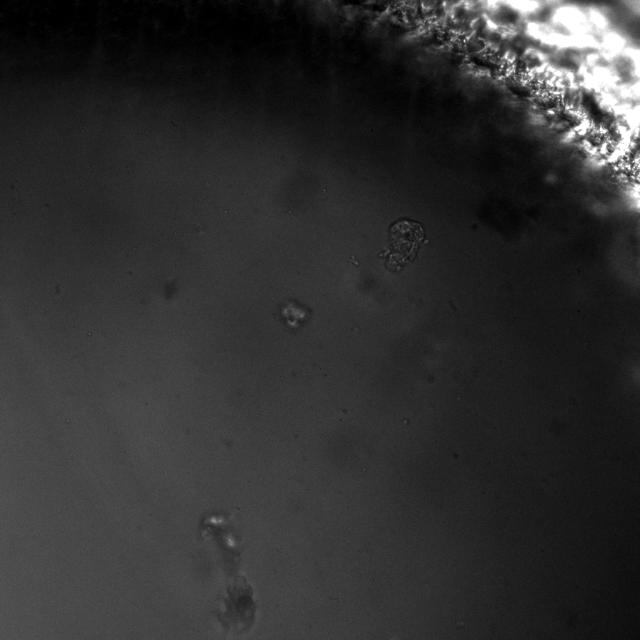organoid: (198, 510, 256, 635), (379, 217, 428, 272), (279, 299, 312, 331)
